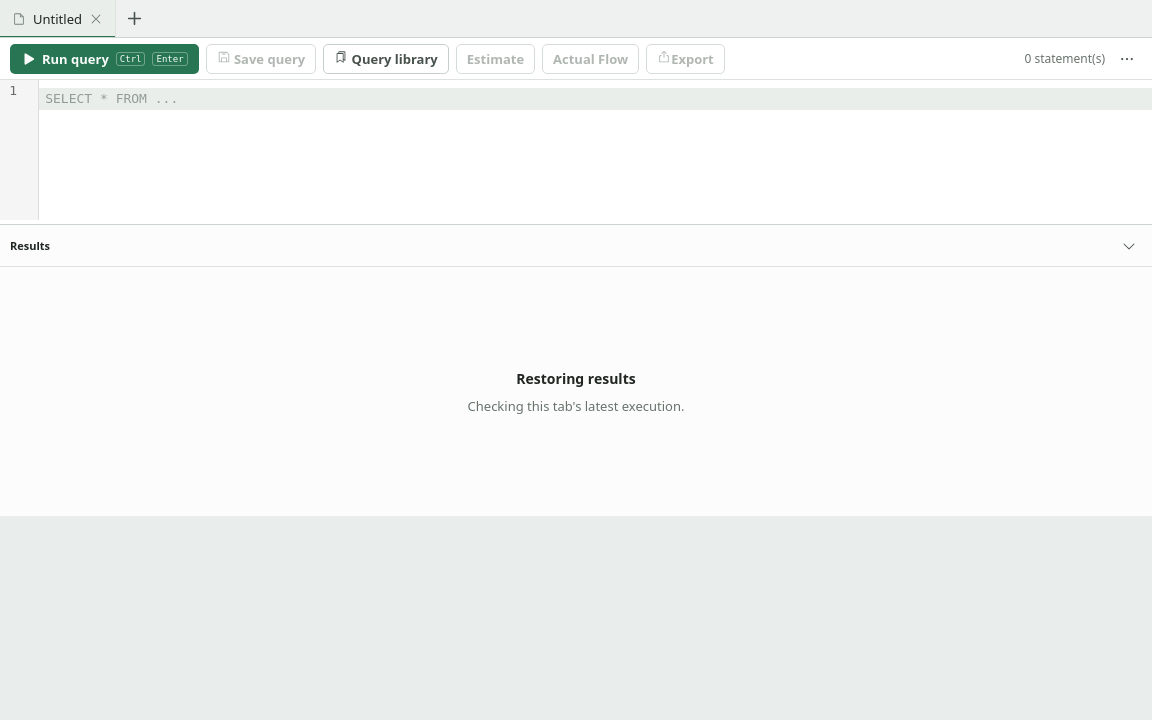
QueryWorkspace › opens saved SQL in a named new tab without executing it
The width and height of the screenshot is (1152, 720).
Click the button "Query library" at (386, 58), box top-left (323, 44), bottom-right (449, 74)
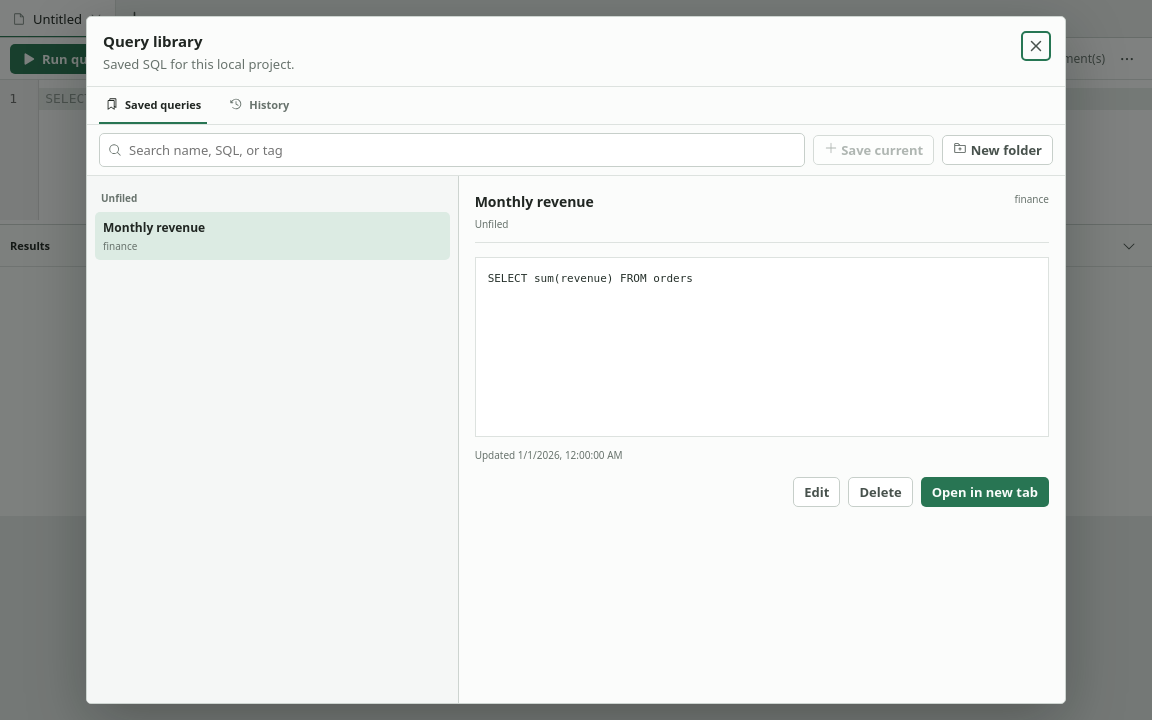
Click the button "Open in new tab" at (985, 492), box top-left (921, 477), bottom-right (1049, 507)
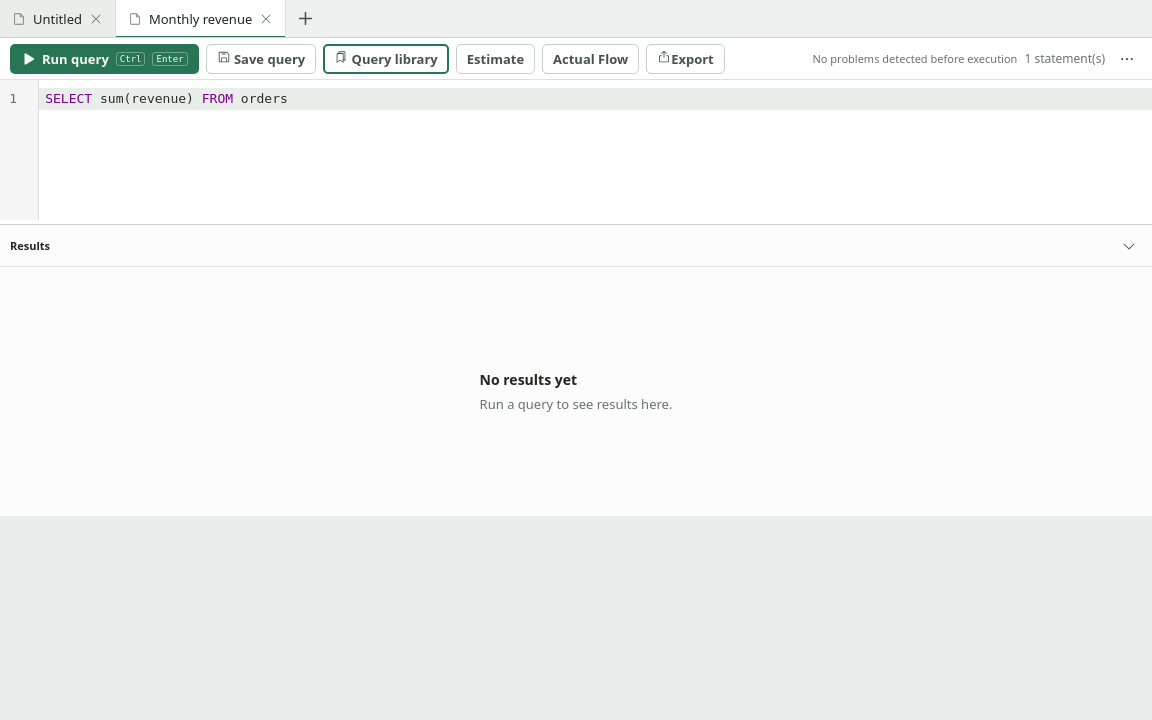
Expected: the tab "Monthly revenue" is shown, top-left (116, 0), bottom-right (286, 37)
Expected: the field with class "cm-content" shows "SELECT sum(revenue)", top-left (39, 88), bottom-right (1151, 110)
